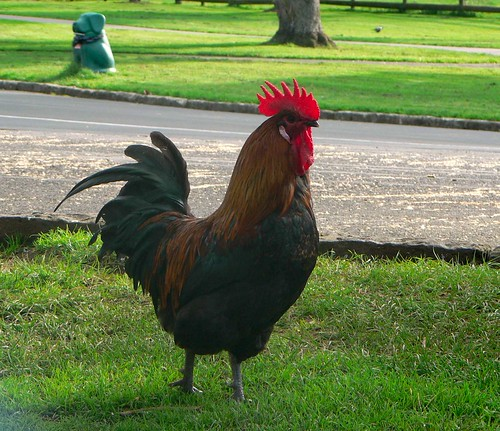chicken: (64, 75, 352, 403)
